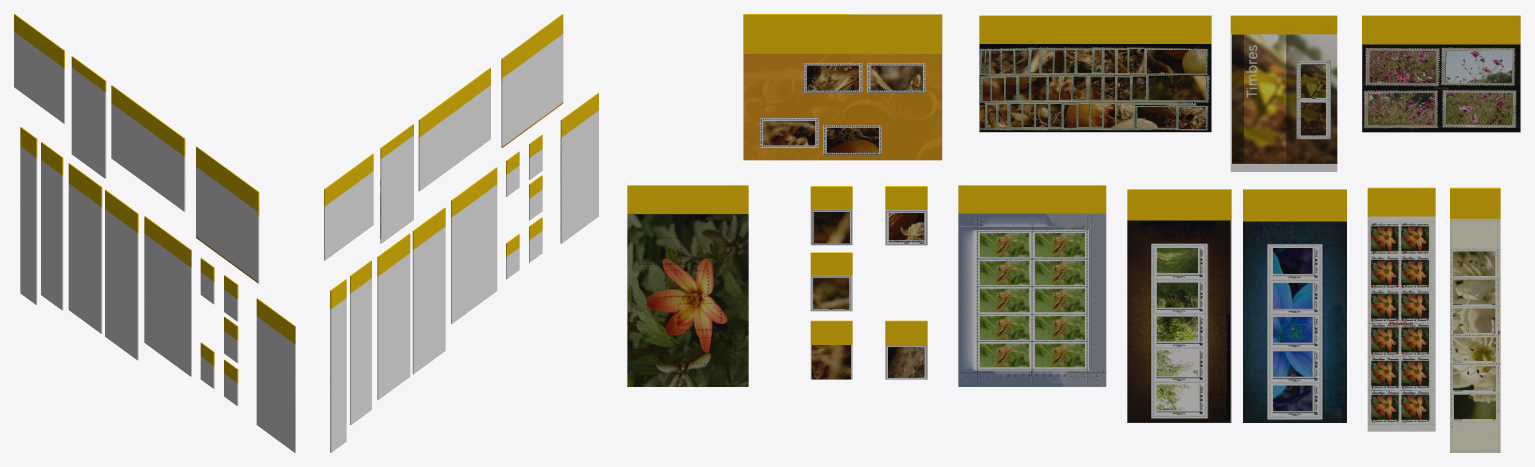
File: stamps.FBX
3 renders of one model, left to right at view 1: azimuth 30°, elevation 25°; view 2: azimuth 150°, elevation 25°; view 3: azimuth 270°, elevation 25°, orthographic. The views are drawn at different scales.
Parts seen in each view (by area): view 1: stamps_C11, stamps_C00, stamps_C01, stamps_C013, stamps_C04, stamps_C12, stamps_C03, stamps_C02, stamps_C14, stamps_C015, stamps_C08, stamps_C06 (+3 smaller); view 2: stamps_C11, stamps_C00, stamps_C01, stamps_C12, stamps_C013, stamps_C04, stamps_C03, stamps_C14, stamps_C02, stamps_C015, stamps_C08, stamps_C06 (+3 smaller); view 3: stamps_C11, stamps_C00, stamps_C01, stamps_C04, stamps_C12, stamps_C013, stamps_C03, stamps_C02, stamps_C14, stamps_C015, stamps_C08, stamps_C10 (+3 smaller).
Part boxes in pixels (x1=…): stamps_C11: x1=144, y1=216, x2=191, y2=376; stamps_C00: x1=196, y1=146, x2=259, y2=283; stamps_C01: x1=111, y1=85, x2=185, y2=211; stamps_C013: x1=68, y1=163, x2=102, y2=333; stamps_C04: x1=256, y1=298, x2=295, y2=452; stamps_C12: x1=105, y1=189, x2=138, y2=360; stamps_C03: x1=14, y1=14, x2=64, y2=123; stamps_C02: x1=71, y1=56, x2=106, y2=178; stamps_C14: x1=41, y1=142, x2=63, y2=310; stamps_C015: x1=20, y1=127, x2=37, y2=304; stamps_C08: x1=200, y1=258, x2=214, y2=304; stamps_C06: x1=224, y1=316, x2=238, y2=362; stamps_C11: x1=451, y1=167, x2=497, y2=323; stamps_C00: x1=501, y1=14, x2=563, y2=147; stamps_C01: x1=418, y1=67, x2=490, y2=191; stamps_C12: x1=412, y1=207, x2=445, y2=374; stamps_C013: x1=377, y1=233, x2=410, y2=399; stamps_C04: x1=560, y1=93, x2=598, y2=243; stamps_C03: x1=324, y1=153, x2=373, y2=260; stamps_C14: x1=350, y1=260, x2=371, y2=424; stamps_C02: x1=380, y1=124, x2=413, y2=243; stamps_C015: x1=330, y1=279, x2=346, y2=452; stamps_C08: x1=506, y1=151, x2=519, y2=196; stamps_C06: x1=529, y1=175, x2=542, y2=220; stamps_C11: x1=958, y1=185, x2=1106, y2=386; stamps_C00: x1=743, y1=14, x2=942, y2=160; stamps_C01: x1=979, y1=15, x2=1211, y2=132; stamps_C04: x1=627, y1=185, x2=748, y2=386; stamps_C12: x1=1127, y1=189, x2=1231, y2=422; stamps_C013: x1=1243, y1=189, x2=1346, y2=422; stamps_C03: x1=1362, y1=15, x2=1520, y2=132; stamps_C02: x1=1230, y1=15, x2=1337, y2=171; stamps_C14: x1=1367, y1=187, x2=1435, y2=431; stamps_C015: x1=1450, y1=187, x2=1500, y2=452; stamps_C08: x1=885, y1=186, x2=927, y2=245; stamps_C10: x1=885, y1=320, x2=927, y2=379.
Bounding box in the file's own units: 0.0026 × 0.6417 × 1.19.
